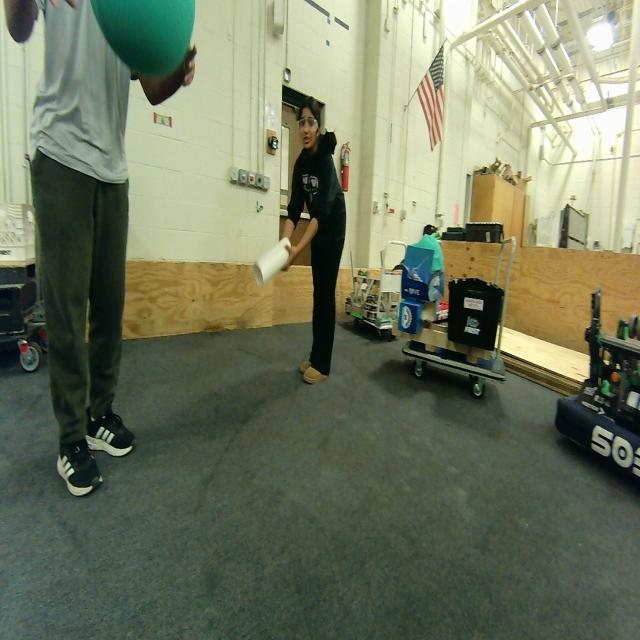algae: (90, 0, 196, 77)
coral: (254, 238, 291, 282)
